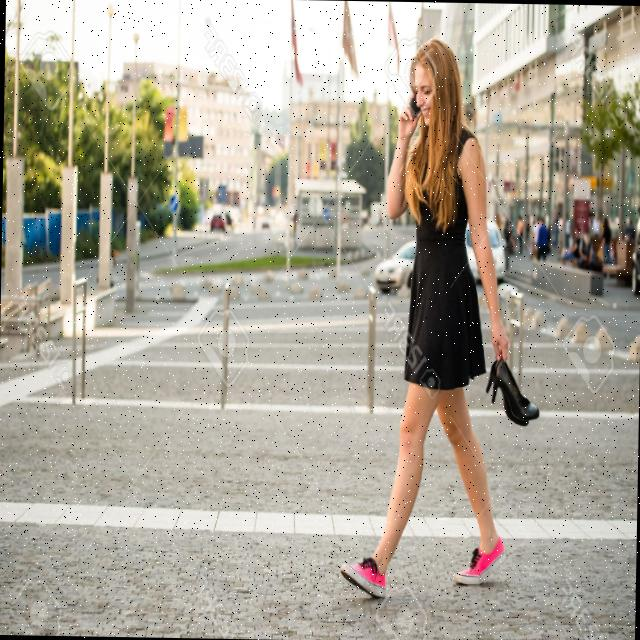Person: (338, 38, 514, 603)
